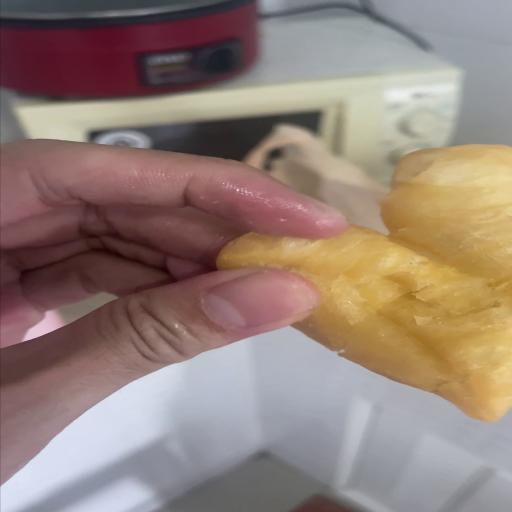street_golden_defect: (217, 147, 512, 421)
